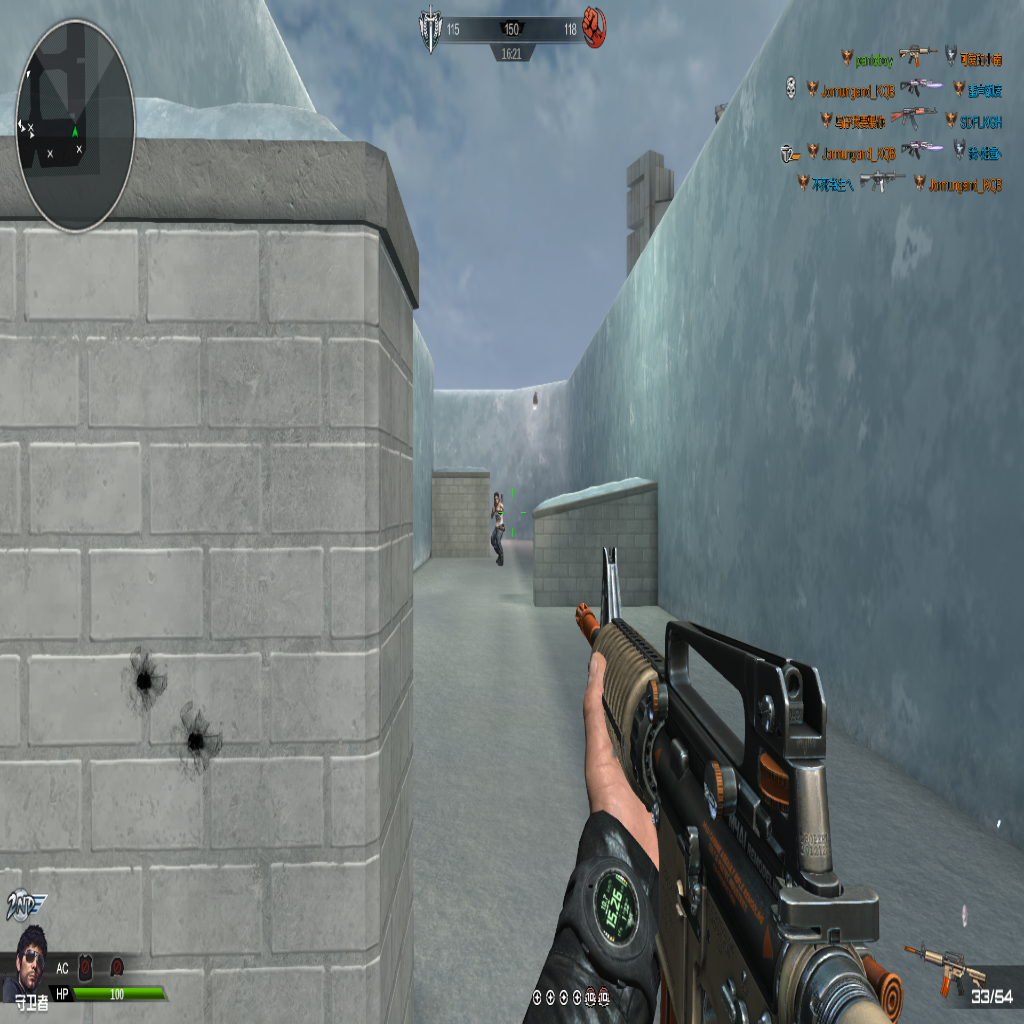tt: (490, 489, 506, 566)
